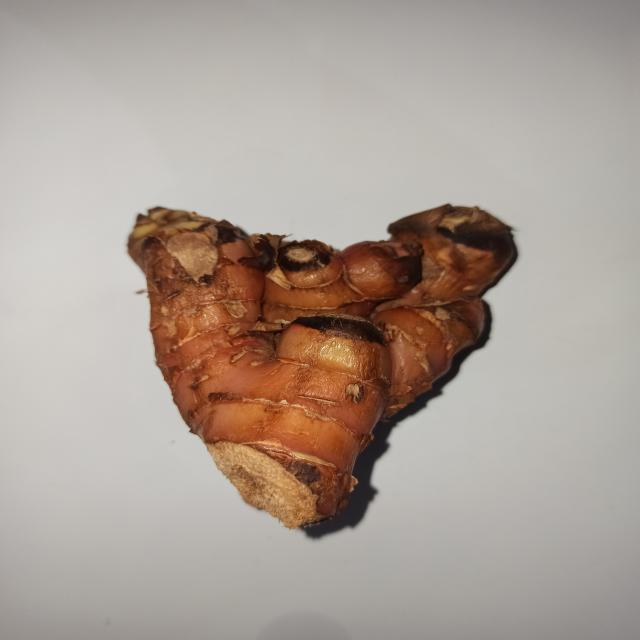ginger: (116, 184, 492, 519)
